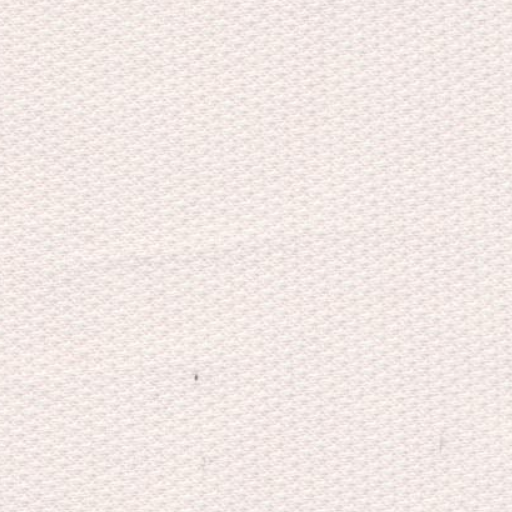WuZi: (176, 348, 220, 398)
